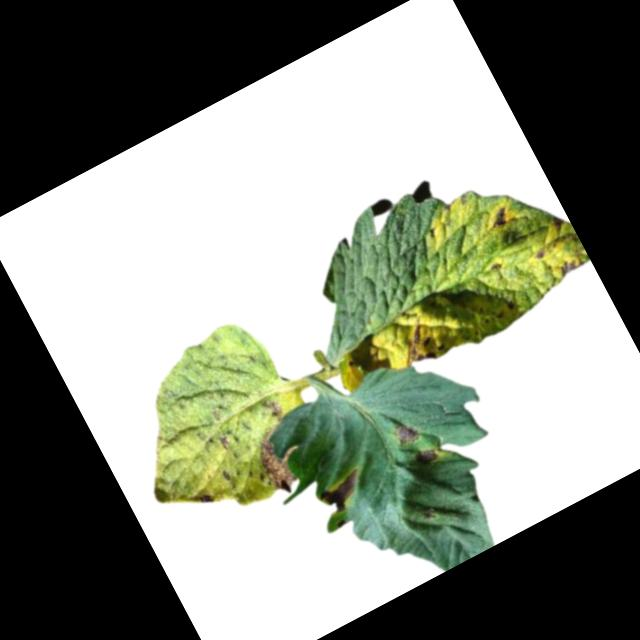Early_blight: (234, 394, 318, 498), (314, 467, 372, 518), (396, 315, 449, 368), (483, 201, 515, 233), (390, 415, 421, 447), (413, 441, 440, 467), (192, 486, 218, 511), (557, 256, 580, 277), (217, 430, 236, 453)
